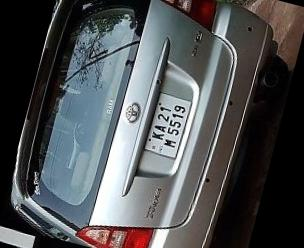plate: (129, 81, 206, 164)
